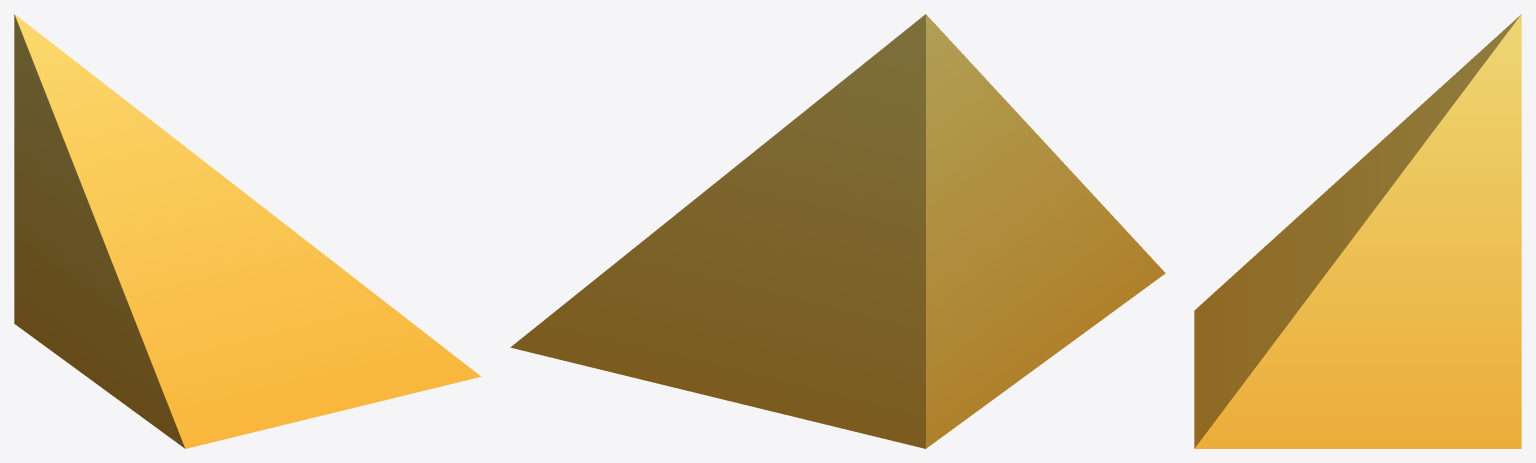
The model's file is Primitive_Slope_OuterCorner.glb.
3 views of the same model, side by side, from view 1: azimuth 30°, elevation 25°; view 2: azimuth 150°, elevation 25°; view 3: azimuth 270°, elevation 25° (orthographic). The views are drawn at different scales.
Parts seen in each view (by area): view 1: Primitive_Slope_OuterCorner; view 2: Primitive_Slope_OuterCorner; view 3: Primitive_Slope_OuterCorner.
Part boxes in pixels (left/top/right/bottom): Primitive_Slope_OuterCorner: left=14, top=14, right=481, bottom=448; Primitive_Slope_OuterCorner: left=510, top=14, right=1165, bottom=448; Primitive_Slope_OuterCorner: left=1194, top=14, right=1521, bottom=448.
Size of the model in its own units: 4 by 4 by 4.
1 material, 1 textured.
